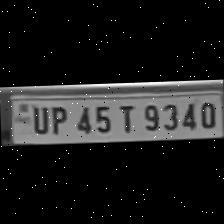0: (196, 96, 216, 127)
3: (158, 98, 178, 130)
4: (70, 100, 92, 132), (177, 97, 197, 128)
5: (90, 100, 114, 133)
9: (138, 99, 160, 130)
P: (44, 101, 68, 133)
T: (114, 99, 136, 132)
U: (28, 102, 48, 133)
